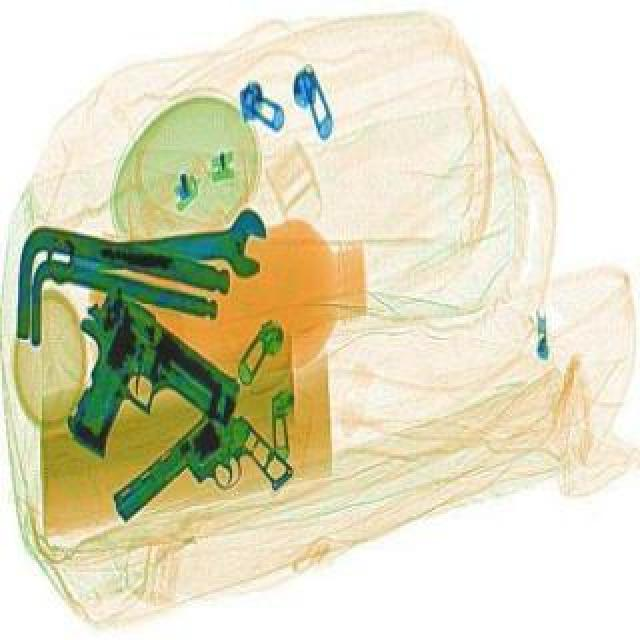gun: (10, 278, 250, 496), (102, 396, 302, 568)
scissors: (40, 206, 270, 290)
